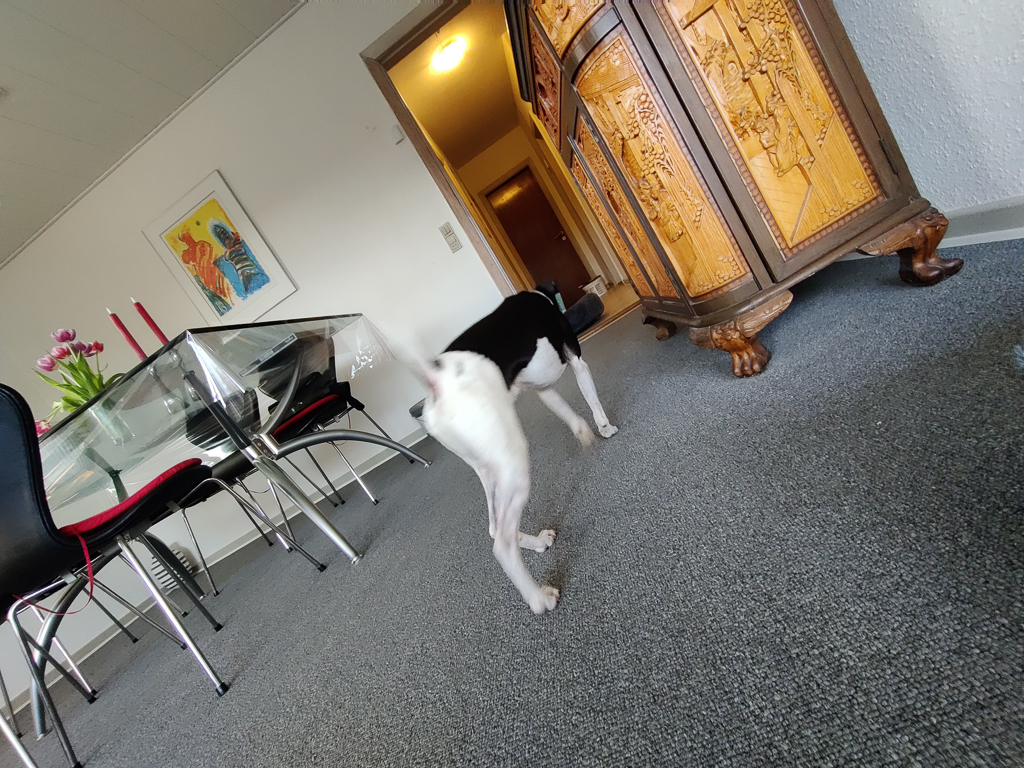Dog: (342, 252, 625, 623)
